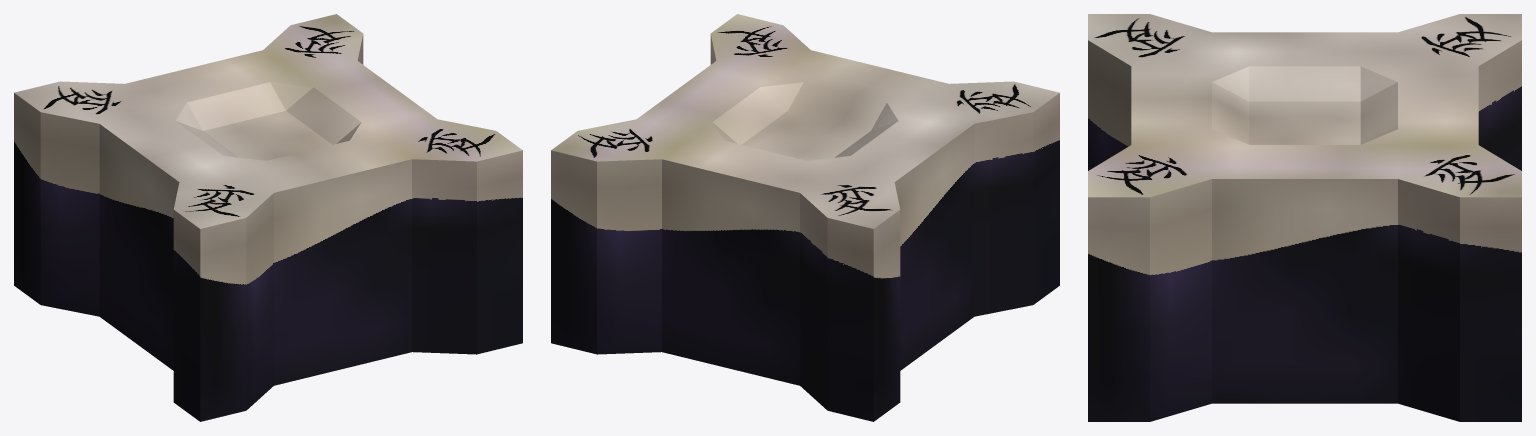
File: GemChanger.obj
The picture shows the model from 3 angles, left to right: view 1: azimuth 30°, elevation 25°; view 2: azimuth 150°, elevation 25°; view 3: azimuth 270°, elevation 25°; orthographic projection. The views are drawn at different scales.
Visible parts, largest first — view 1: Cube_Cube.001; view 2: Cube_Cube.001; view 3: Cube_Cube.001.
Boxes of the visible parts, x1,y1,x2,y2 form: Cube_Cube.001: (14,14,522,421); Cube_Cube.001: (551,14,1059,421); Cube_Cube.001: (1088,14,1521,421).
Size of the model in its own units: 1 by 0.5714 by 1.
